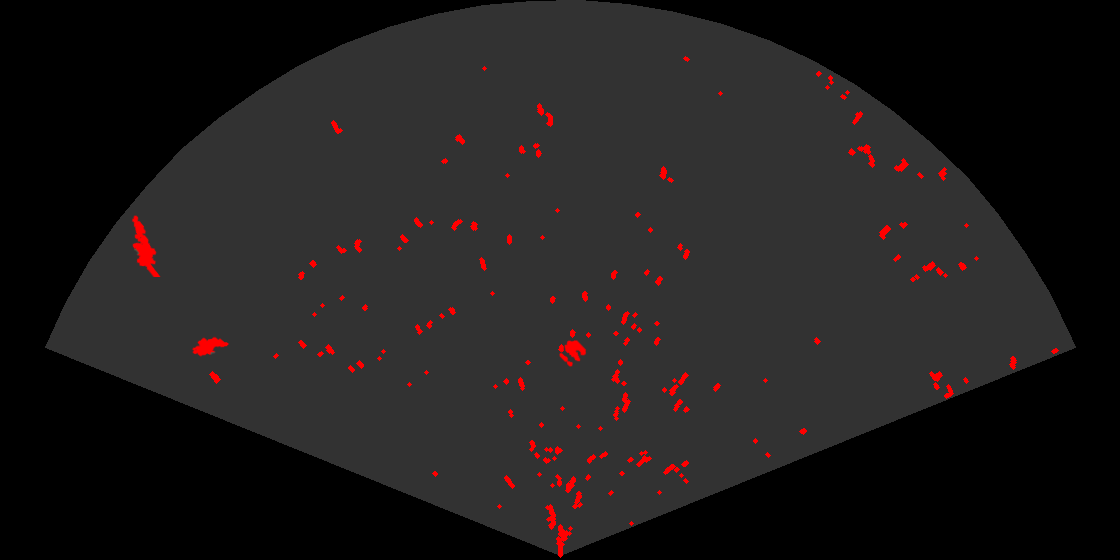AUV: (190, 335, 231, 358)
ball: (558, 338, 588, 368)
frogman: (130, 214, 162, 277)
